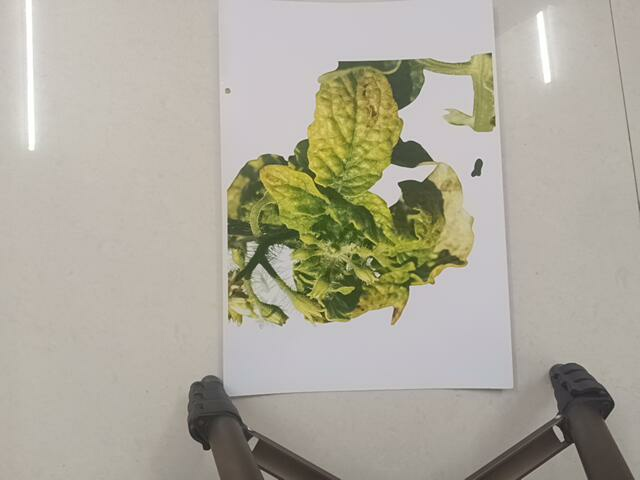Tomamto_Leaf_curl_virus: (221, 58, 523, 329)
